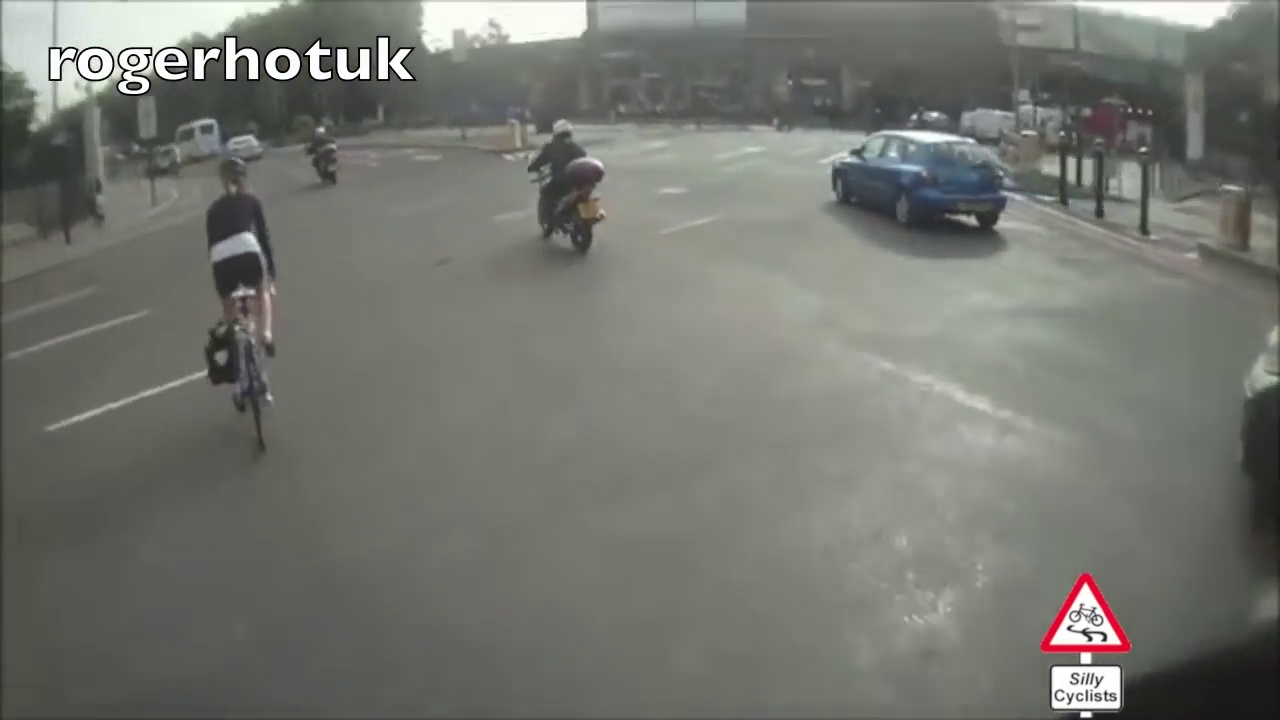cyclist_back: (199, 153, 297, 468), (523, 109, 609, 264), (298, 116, 346, 200)
